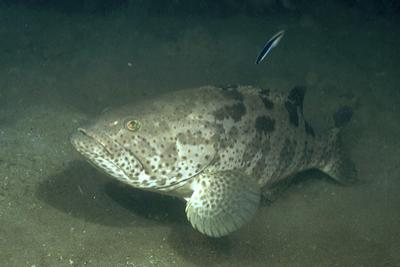Serranidae -Groupers-: (68, 75, 365, 238)
